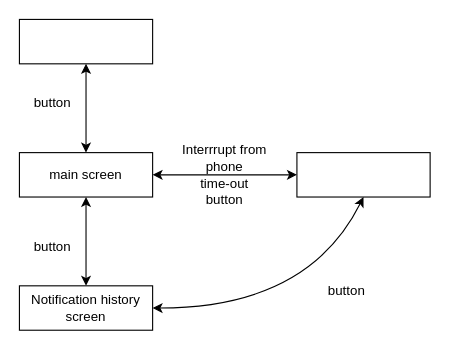
Image size: 450x350. Some labels were removed from this diagram. Each missing label, with the box of its shape:
Music screen: (18, 18, 153, 64)
Notification screen: (296, 152, 430, 197)
